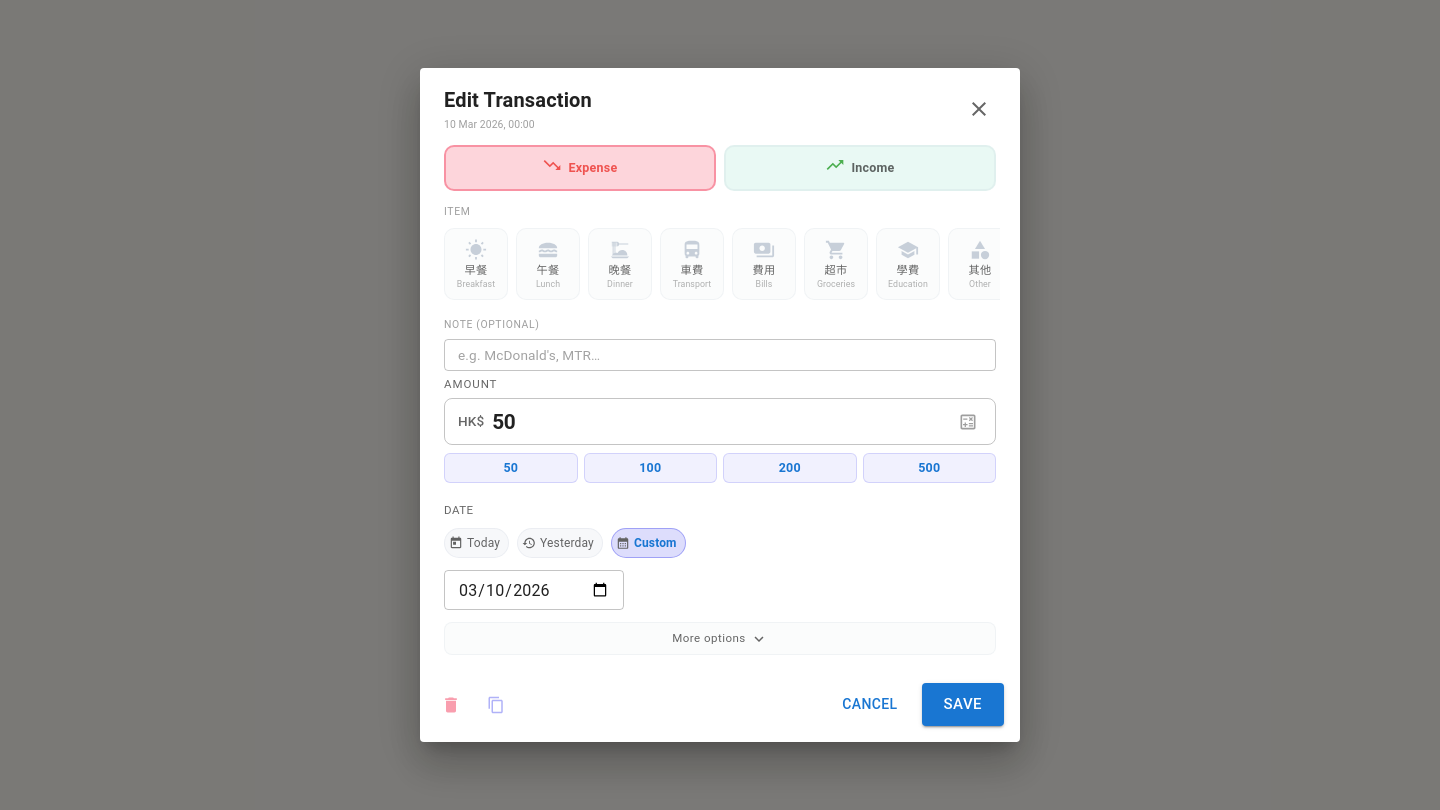
Scenario: EditExpenseModal › shows validation error when Save is clicked without description
Click the button "Save": (963, 705) [922, 684, 1004, 726]
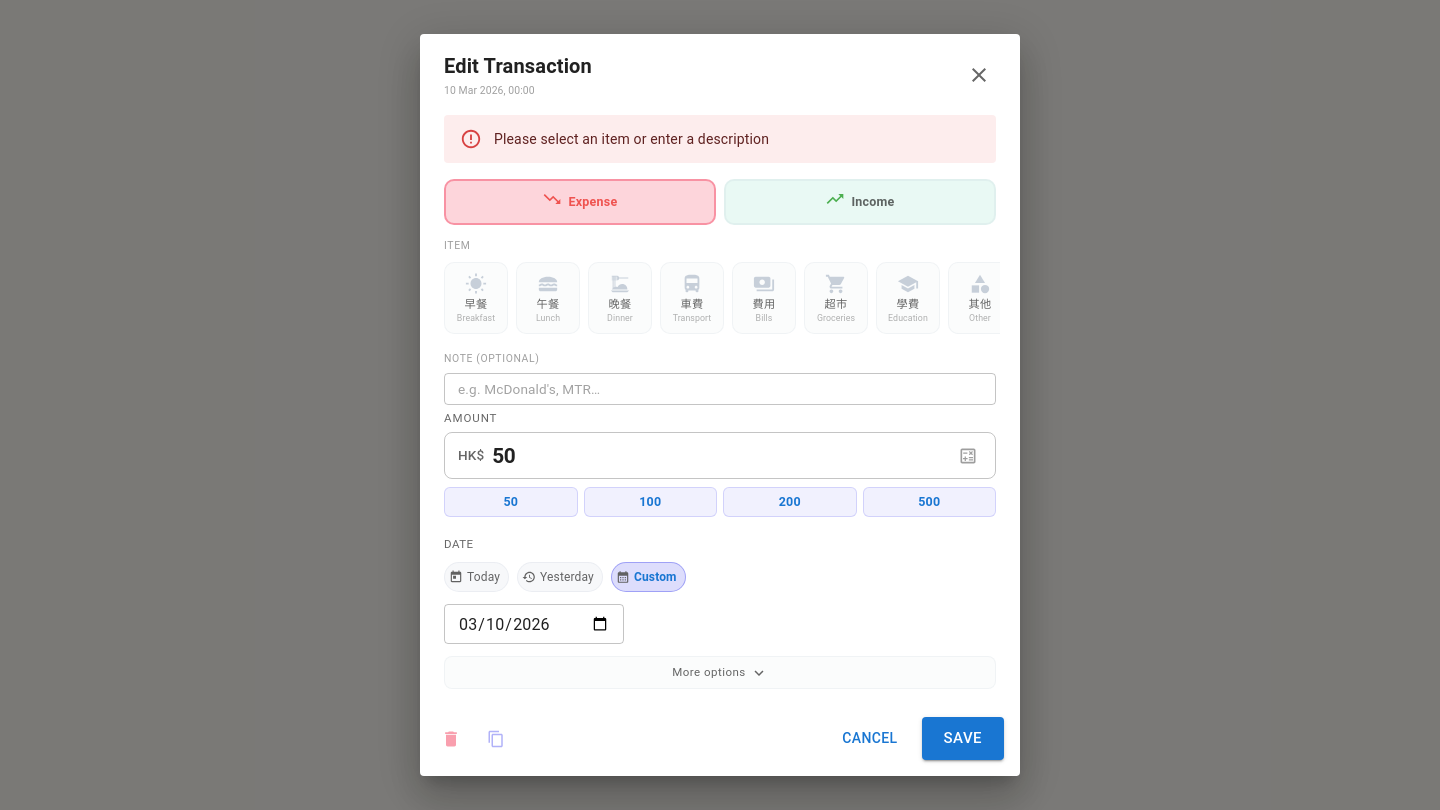
expect the message "Please select an item or enter a description" is shown: met, box [444, 115, 996, 163]
